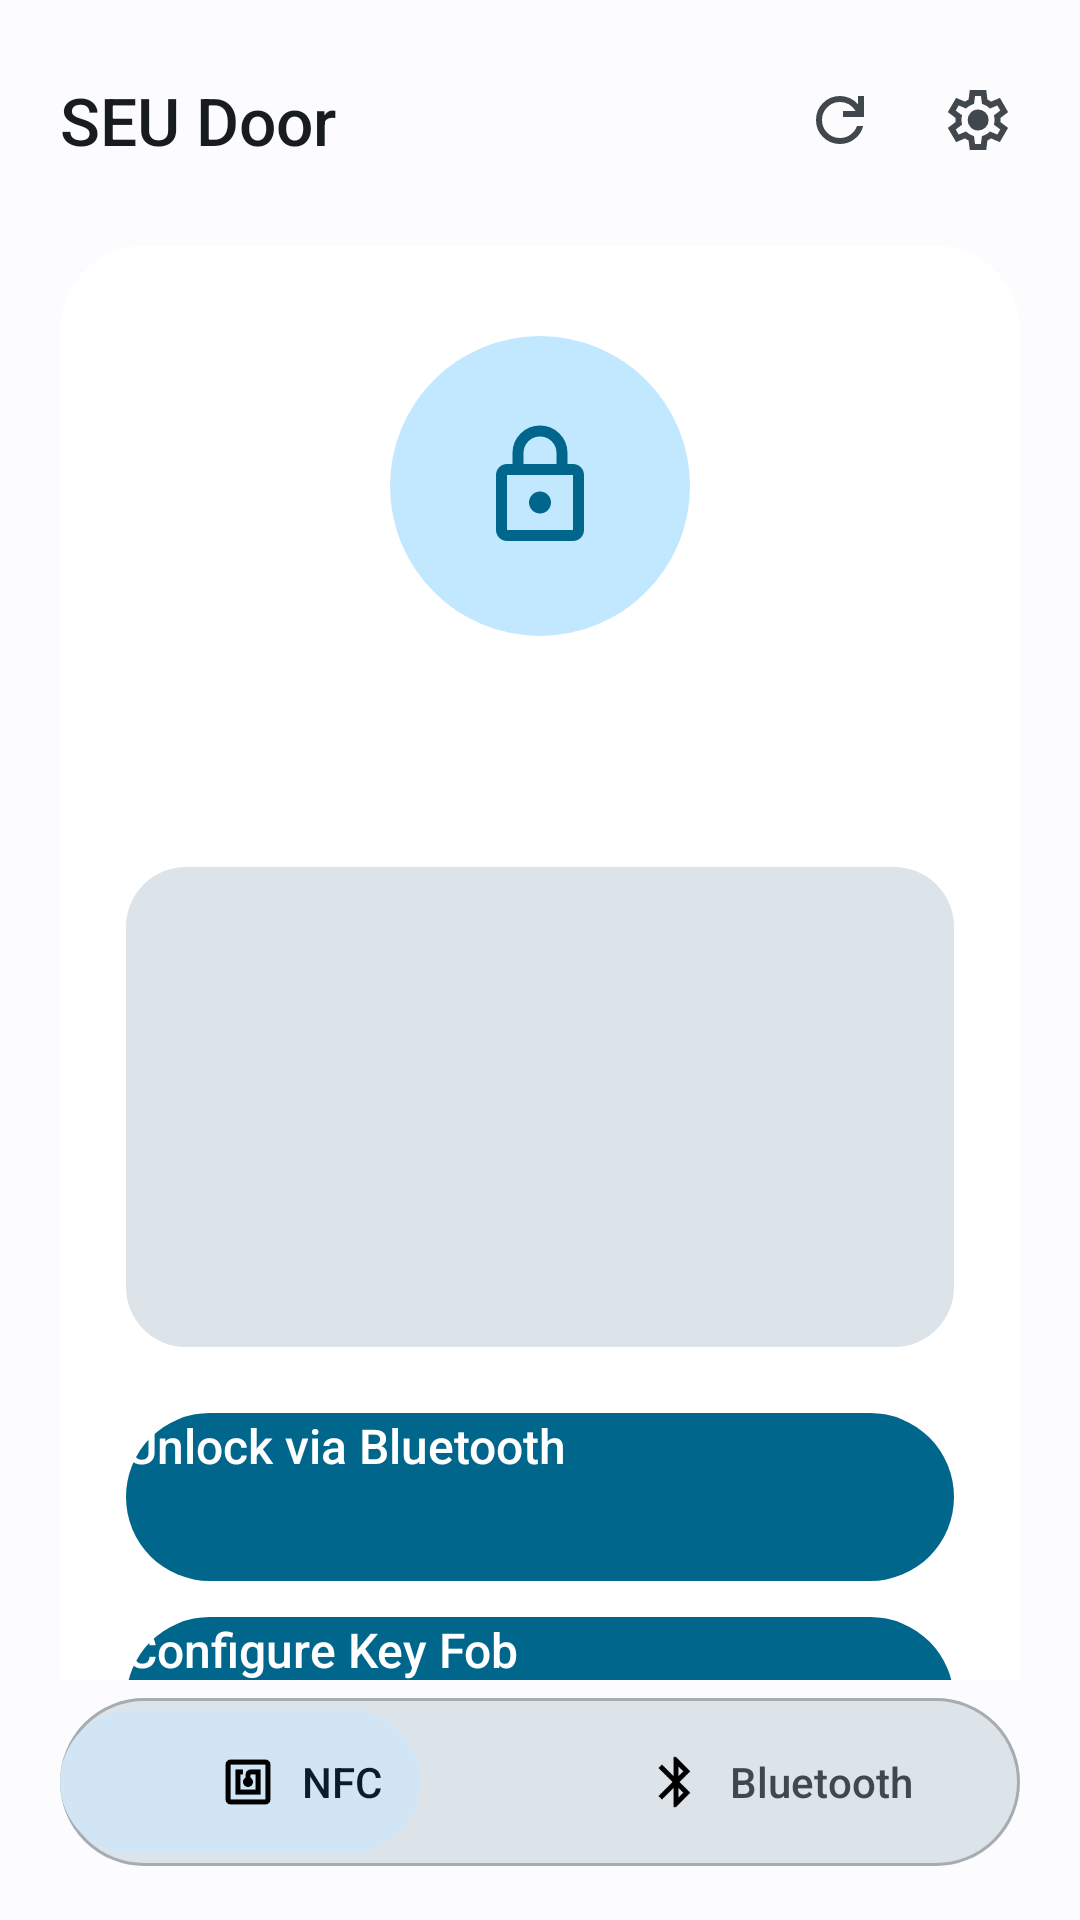

Icons on this 1080×1920 Android screen, each with the point to tap as point (x, y):
lock: point (540, 483)
Refresh credential: point (840, 120)
Settings: point (978, 120)
